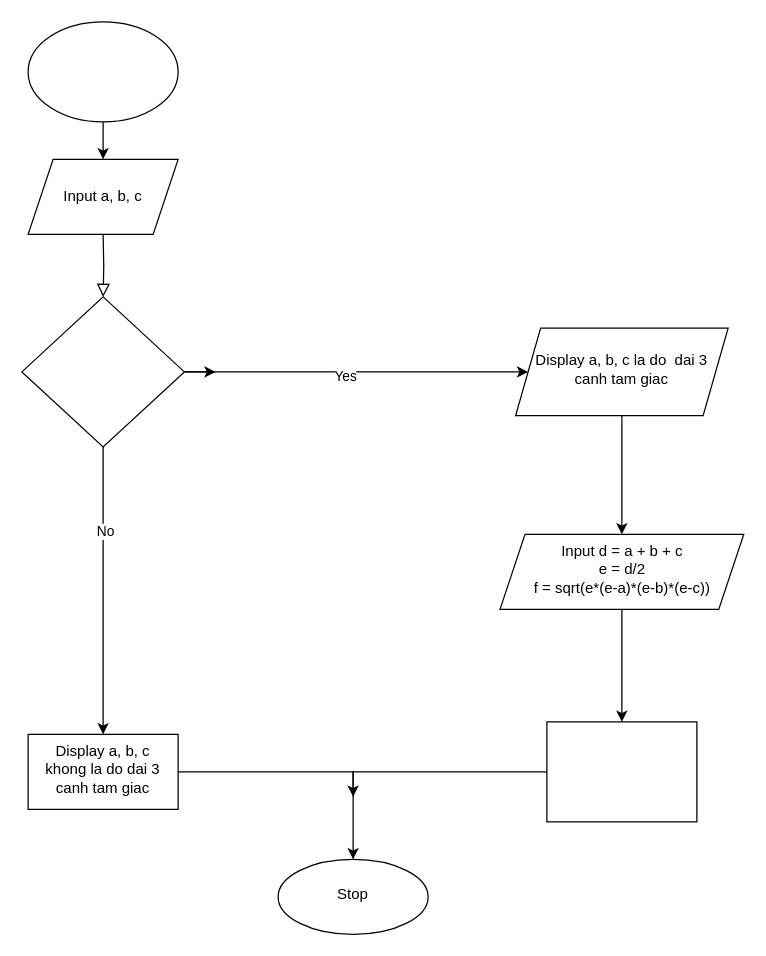
This 766x956 diagram has some shape labels left out. Here are the shapes that lost their labels. From the top down, the centre of each, then its label:
the point at 102,71: Start
the point at 102,371: a + b > c && b + c > a && a + c > b
the point at 621,771: Display d la chu vi tam giac f la dien tich tam giac
